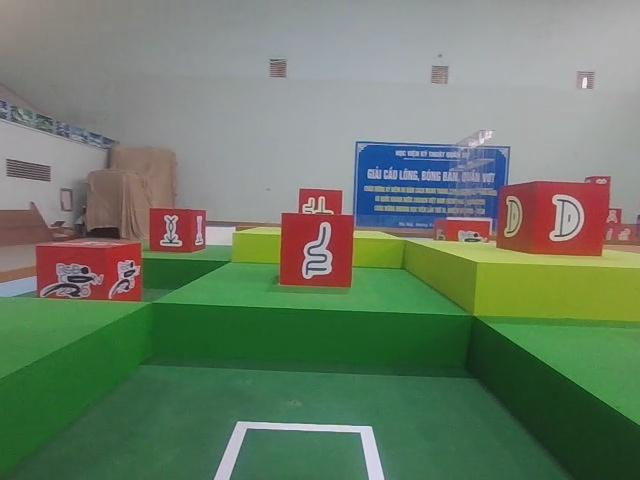R1: (32, 233, 145, 318), (431, 214, 493, 258)
R2 Fake: (277, 211, 355, 292)
R2 Real: (492, 177, 612, 259), (147, 204, 209, 258), (294, 185, 346, 228)
